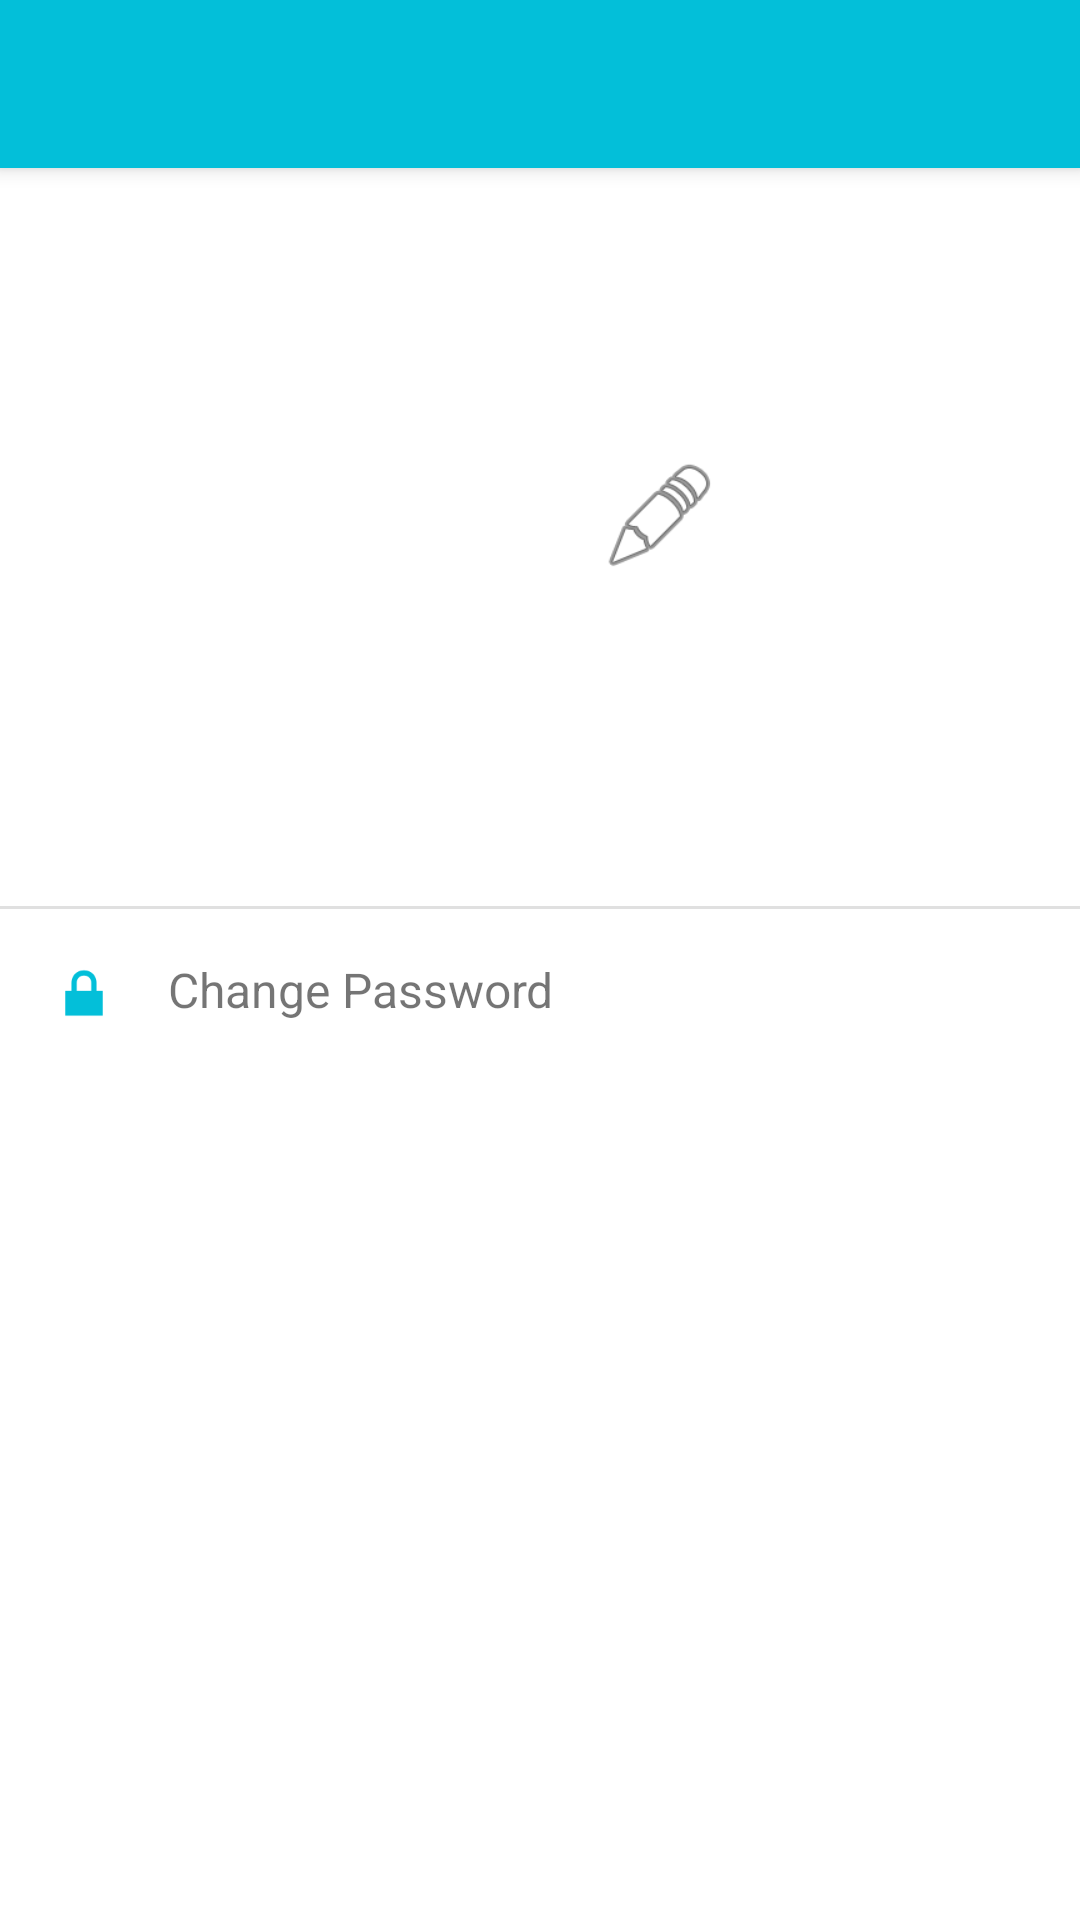

Locate icon controls on the screen. Image size 1080px x 1920px, boxes as {"left": x1, "top": y1, "right": x2, "bottom": y2}.
Edit profile: {"left": 609, "top": 464, "right": 710, "bottom": 566}
